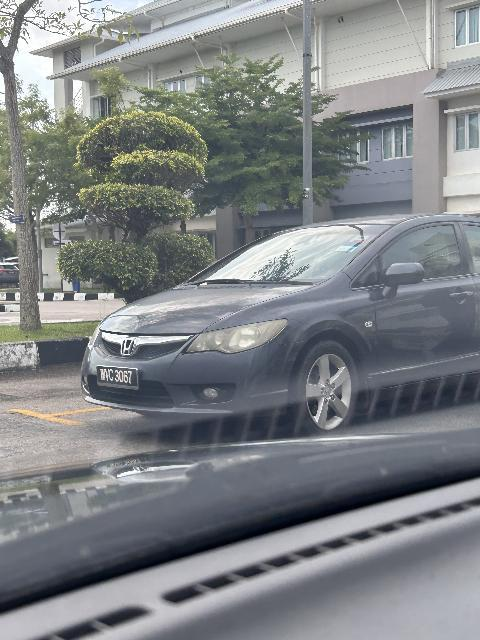License_Plate: (93, 364, 145, 397)
WYC3067: (93, 364, 145, 397)
